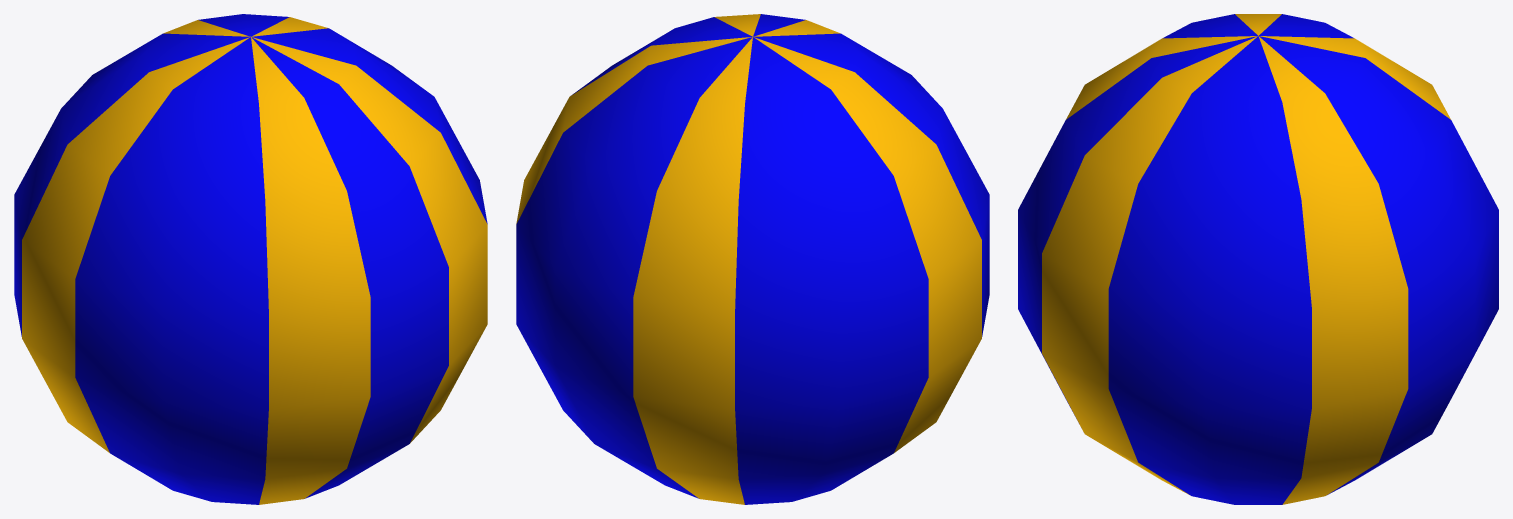
Rendered from ball 1.FBX.
3 renders of one model, left to right at view 1: azimuth 30°, elevation 25°; view 2: azimuth 150°, elevation 25°; view 3: azimuth 270°, elevation 25°, orthographic.
Parts seen in each view (by area): view 1: Sphere002; view 2: Sphere002; view 3: Sphere002.
Boxes of the visible parts, x1,y1,x2,y2 form: Sphere002: (14,14,487,504); Sphere002: (516,14,989,504); Sphere002: (1018,14,1498,504).
Bounding box in the file's own units: 4.49 × 4.72 × 4.61.
